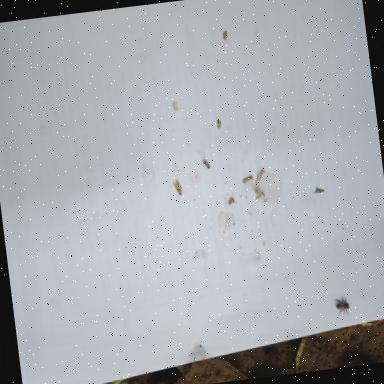pbw: (254, 168, 266, 184), (172, 180, 182, 196), (242, 175, 254, 185), (202, 158, 210, 169), (312, 188, 324, 194)
